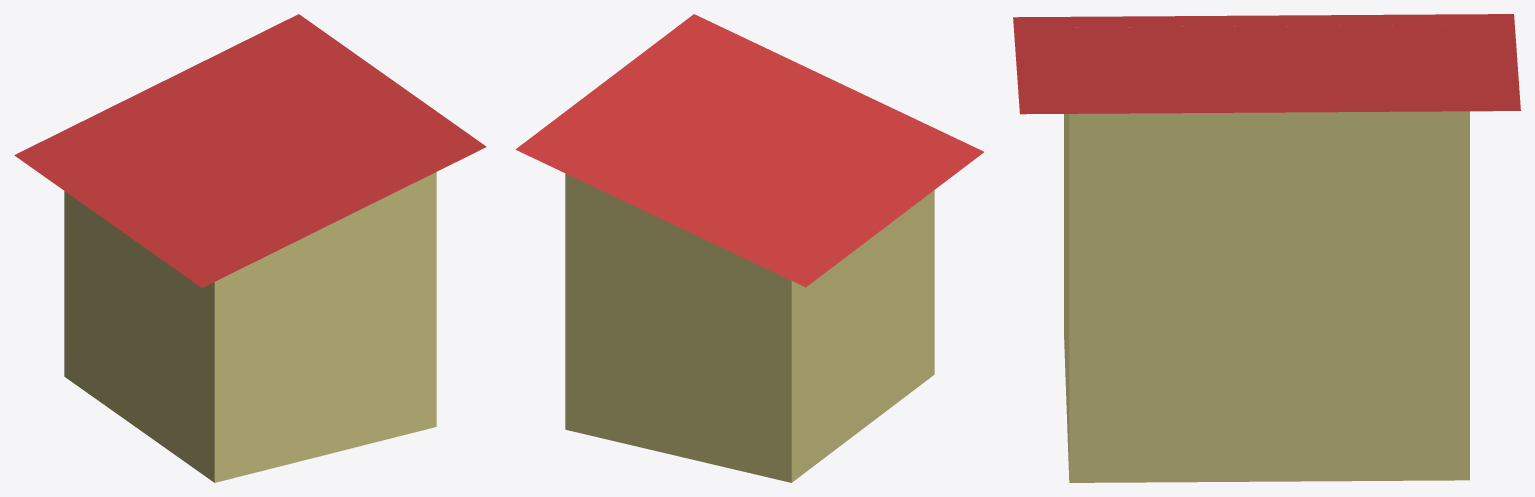
The picture shows the model from 3 angles, left to right: view 1: azimuth 30°, elevation 25°; view 2: azimuth 150°, elevation 25°; view 3: azimuth 270°, elevation 25°; orthographic projection. The views are drawn at different scales.
Bounding box in the file's own units: 9.21 × 10.13 × 8.59.
